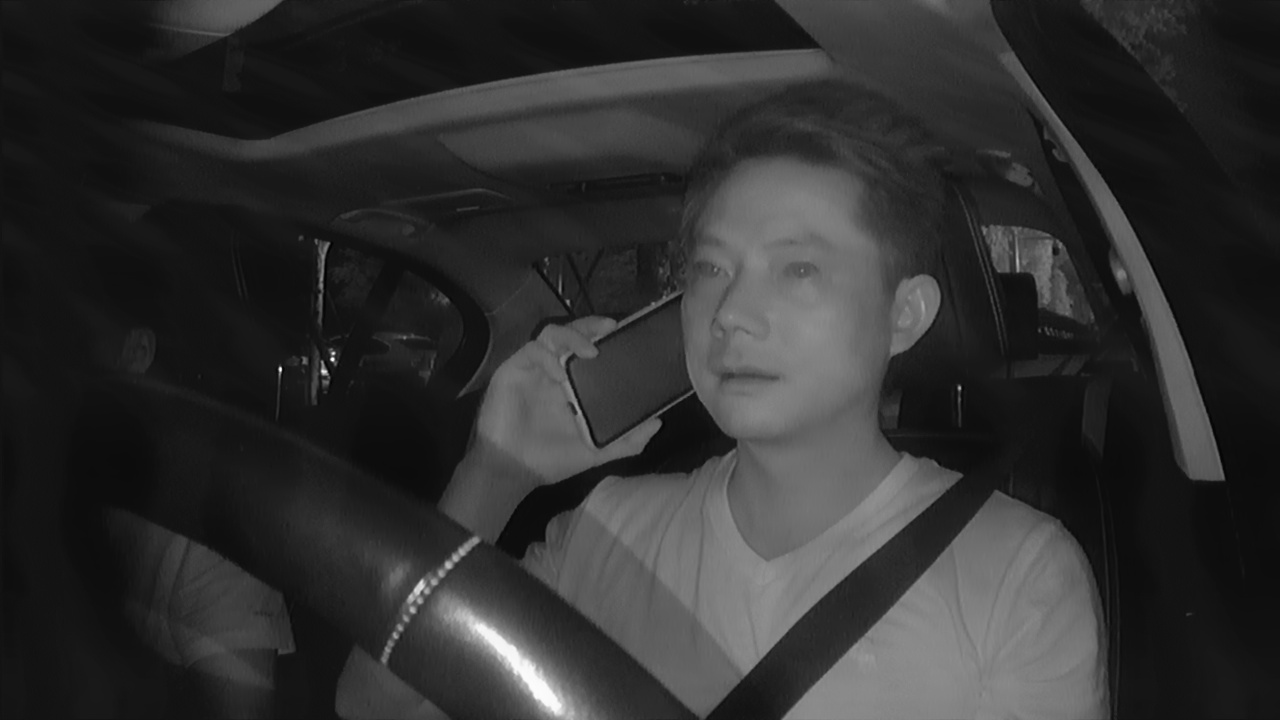hand: (468, 313, 608, 500)
